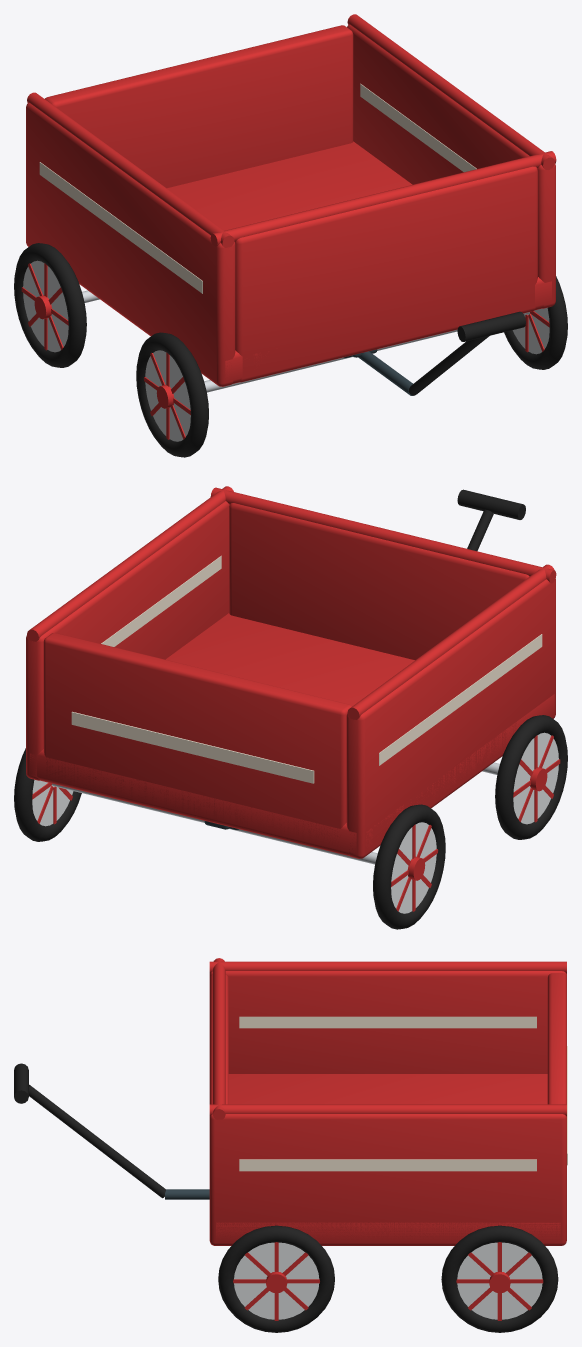
File: finale.fbx
The picture shows the model from 3 angles, top to bottom: view 1: azimuth 30°, elevation 25°; view 2: azimuth 150°, elevation 25°; view 3: azimuth 270°, elevation 25°; orthographic projection. The views are drawn at different scales.
Visible parts, largest first — view 1: Body, Tailgate, Wheel_3, Wheel_1, Wheel_2; view 2: Body, Tailgate, Wheel_1, Wheel_3, Wheel_0; view 3: Body, Wheel_0, Wheel_2, Tailgate.
Part boxes in pixels (<box>): Body: <box>26,14,556,395</box>; Tailgate: <box>45,25,353,188</box>; Wheel_3: <box>136,332,208,457</box>; Wheel_1: <box>14,243,86,367</box>; Wheel_2: <box>504,276,567,369</box>; Body: <box>26,486,556,864</box>; Tailgate: <box>43,633,351,850</box>; Wheel_1: <box>373,804,445,929</box>; Wheel_3: <box>495,715,567,839</box>; Wheel_0: <box>14,748,81,841</box>; Body: <box>14,958,566,1245</box>; Wheel_0: <box>441,1225,558,1332</box>; Wheel_2: <box>218,1225,334,1332</box>; Tailgate: <box>547,973,567,1165</box>.
Bounding box in the file's own units: 3.76 × 2.27 × 5.21.
